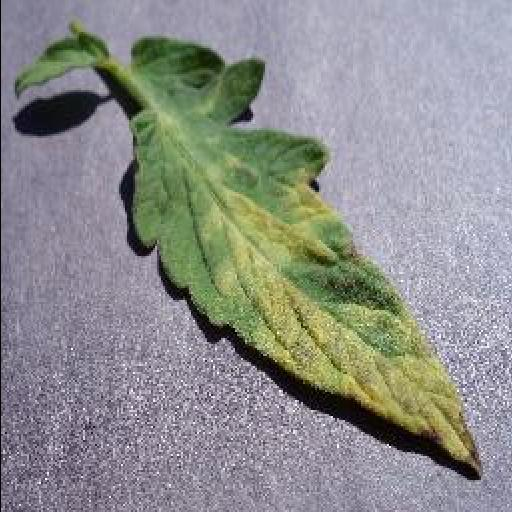disease_tomato: (122, 36, 482, 474)
